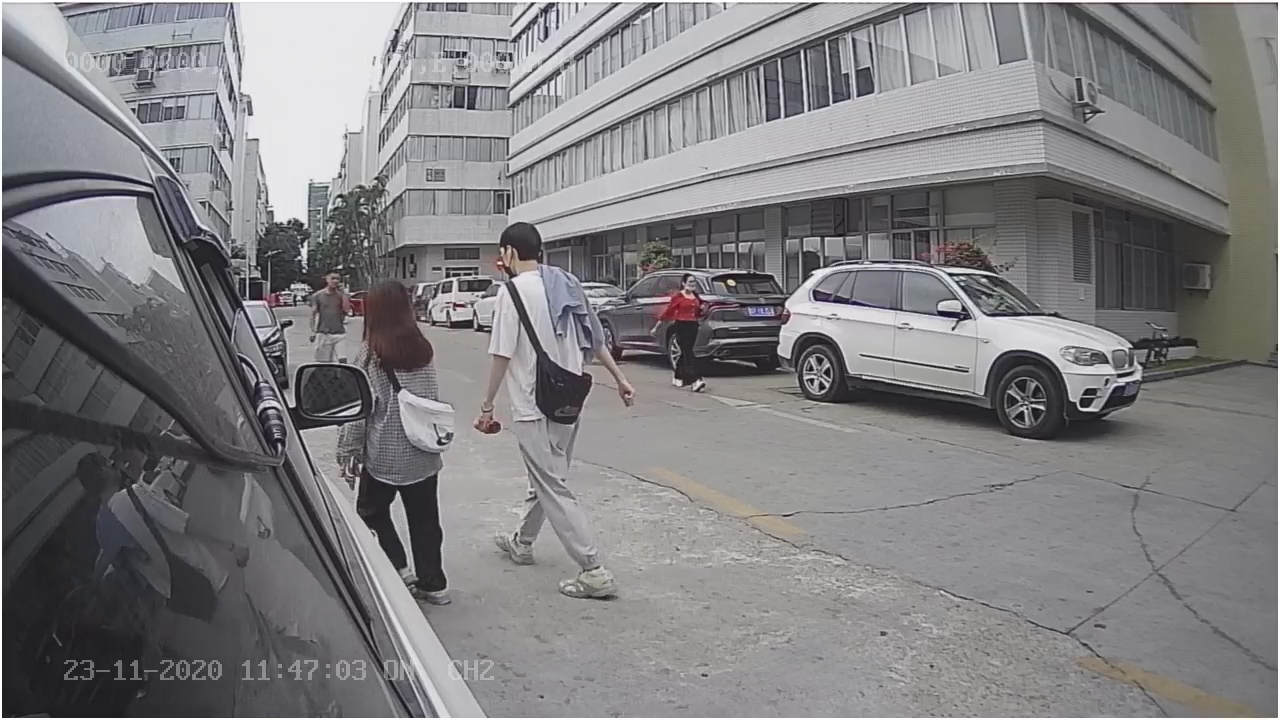person: (469, 216, 633, 608)
